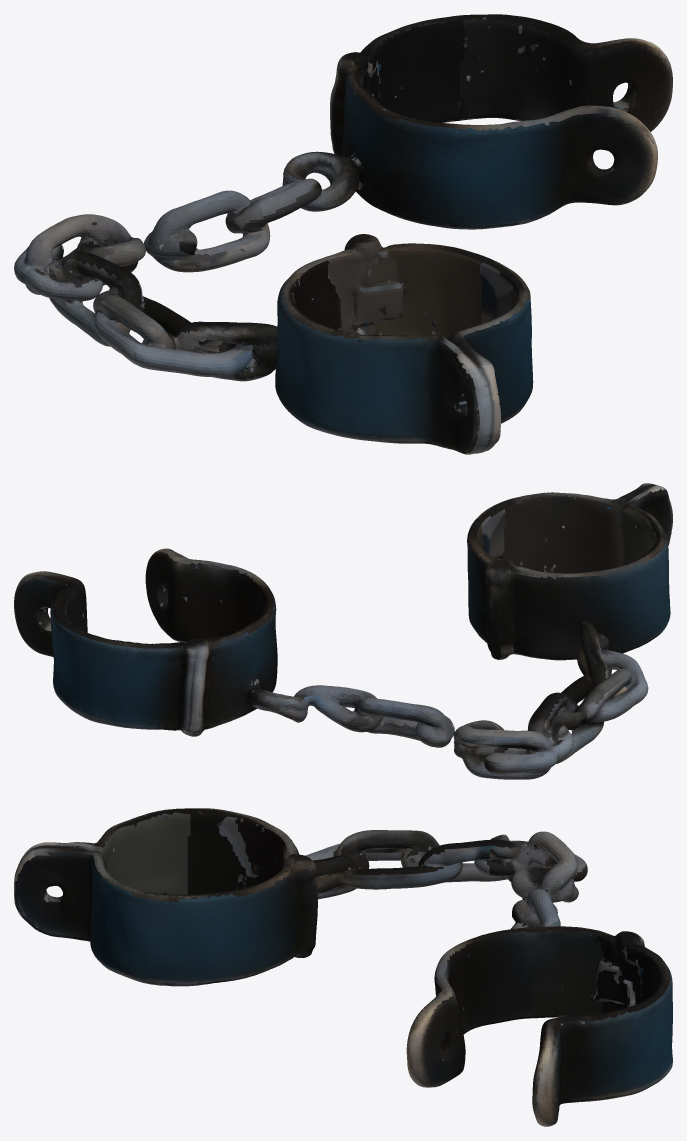
3 renders of one model, top to bottom at view 1: azimuth 30°, elevation 25°; view 2: azimuth 150°, elevation 25°; view 3: azimuth 270°, elevation 25°, orthographic. The views are drawn at different scales.
Parts seen in each view (by area): view 1: Hy21_Mesh.obj; view 2: Hy21_Mesh.obj; view 3: Hy21_Mesh.obj.
Part boxes in pixels (<box>): Hy21_Mesh.obj: <box>14,14,672,454</box>; Hy21_Mesh.obj: <box>14,483,672,779</box>; Hy21_Mesh.obj: <box>14,808,672,1126</box>.
Bounding box in the file's own units: 1.95 × 0.3357 × 1.95.
Materials: 1 (1 with a texture image).
